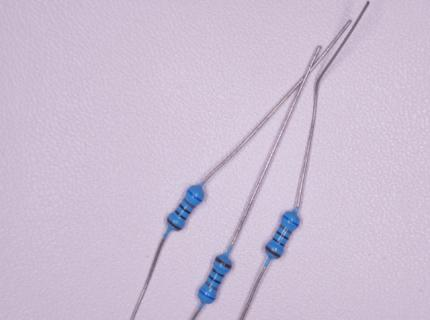Black band: (179, 204, 191, 214), (277, 231, 289, 240), (212, 269, 225, 277), (175, 211, 186, 220), (209, 275, 221, 283), (273, 238, 284, 246)
Blue band: (187, 189, 203, 203), (198, 288, 215, 301), (282, 215, 299, 228)
Brown band: (216, 257, 232, 269), (167, 218, 181, 230), (266, 247, 281, 258)
Grey band: (182, 197, 196, 210), (205, 280, 218, 292), (279, 224, 292, 236)
